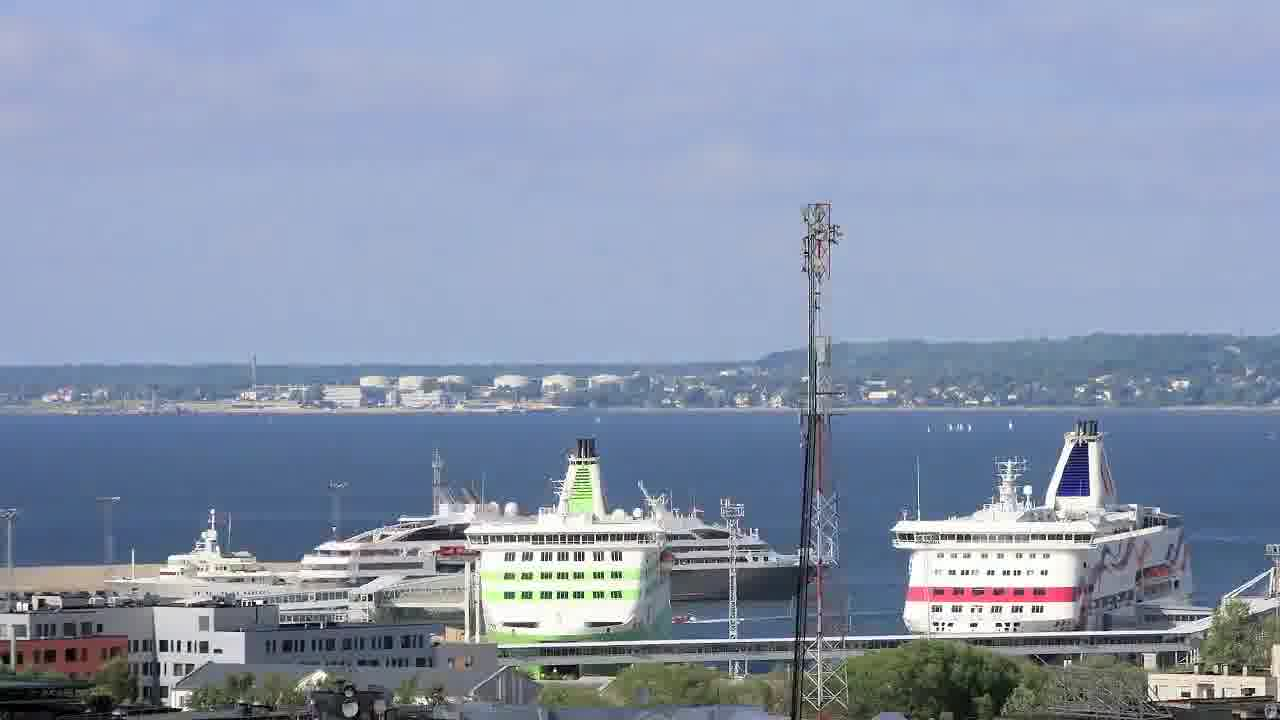type-0: (665, 603, 701, 635)
type-3: (868, 415, 1225, 638), (289, 483, 844, 607), (436, 434, 694, 670), (91, 520, 301, 605)
